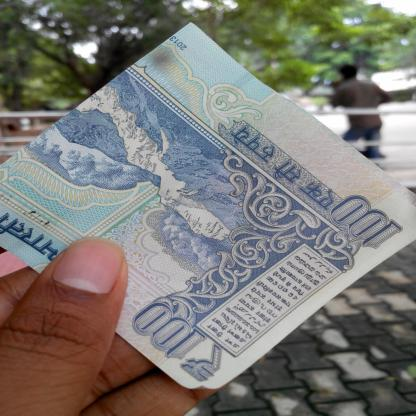Old100Back: (0, 22, 416, 392)
